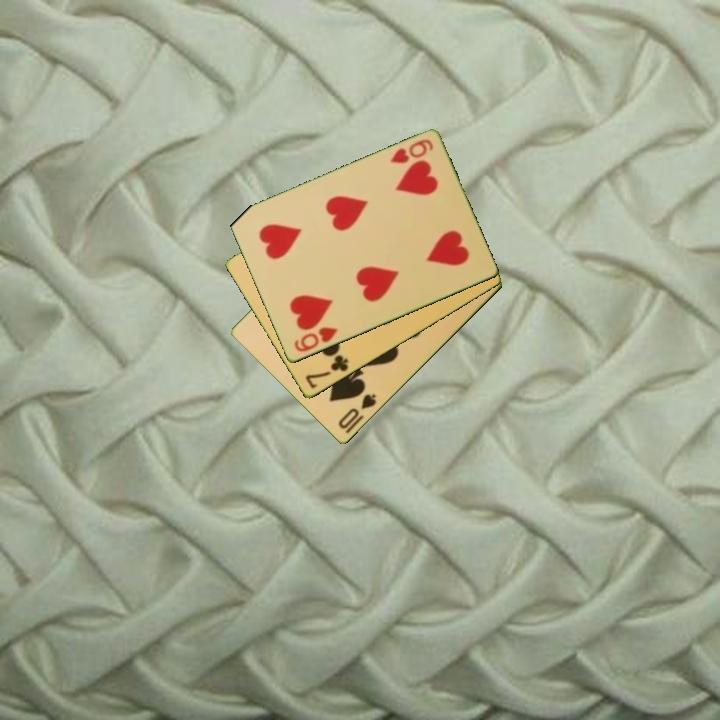10s: (335, 391, 379, 433)
6h: (290, 324, 341, 355), (386, 136, 436, 167)
7c: (302, 352, 351, 392)
